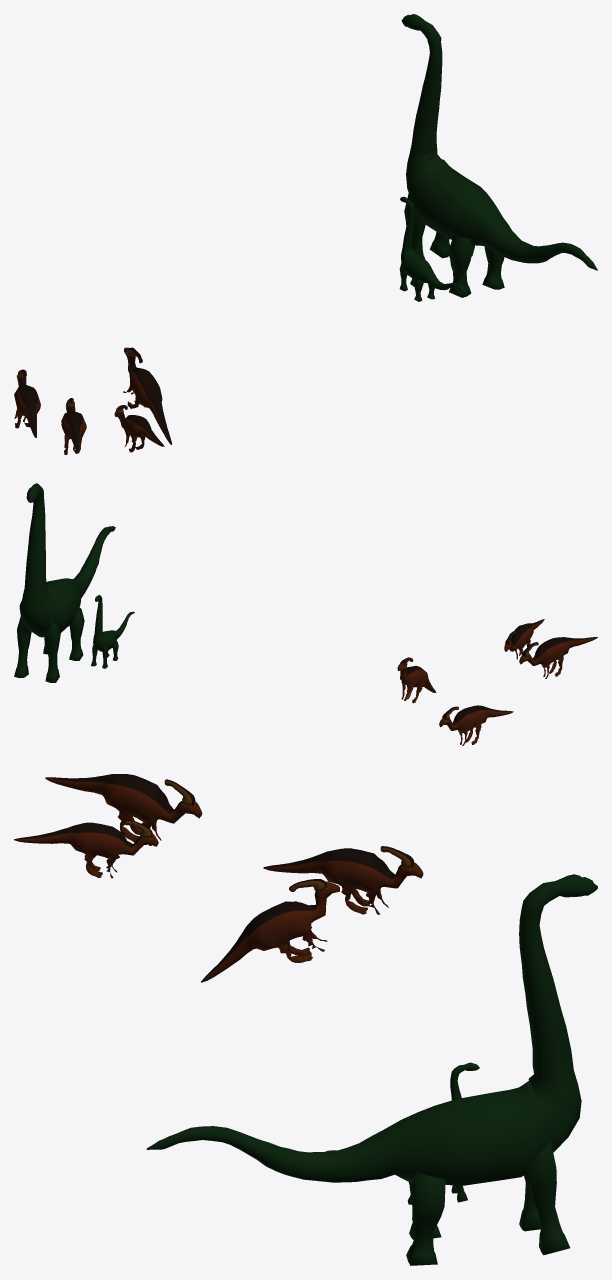
File: dinosauri by Elisabetta buono.dae
The picture shows the model from 3 angles, top to bottom: view 1: azimuth 30°, elevation 25°; view 2: azimuth 150°, elevation 25°; view 3: azimuth 270°, elevation 25°; orthographic projection. The views are drawn at different scales.
Visible parts, largest first — view 1: prim9, prim8, prim6, prim0, prim4, prim2; view 2: prim9, prim2, prim0, prim8, prim6, prim4; view 3: prim9, prim6, prim0, prim2, prim4, prim8.
Boxes of the visible parts, box(x1,y1,x2,y2) form: prim9: box(401, 14, 597, 297); prim8: box(399, 196, 464, 301); prim6: box(123, 347, 171, 444); prim0: box(14, 375, 40, 437); prim4: box(114, 411, 164, 452); prim2: box(61, 406, 86, 454); prim9: box(14, 483, 115, 682); prim2: box(519, 637, 597, 678); prim0: box(439, 705, 513, 745); prim8: box(91, 595, 134, 668); prim6: box(397, 663, 436, 703); prim4: box(504, 619, 544, 659); prim9: box(146, 874, 597, 1265); prim6: box(201, 881, 340, 982); prim0: box(263, 848, 423, 914); prim2: box(45, 774, 202, 845); prim4: box(14, 822, 158, 878); prim8: box(326, 1062, 479, 1204).
Size of the model in its own units: 28.03 by 16.97 by 12.11.
